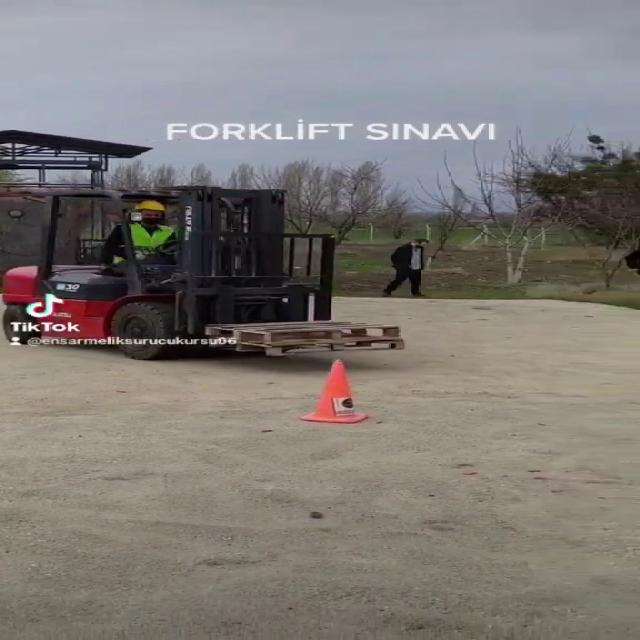ForkLift: (5, 188, 337, 361)
Human: (100, 190, 195, 284), (387, 234, 430, 304)
Pallet: (196, 314, 421, 364)
